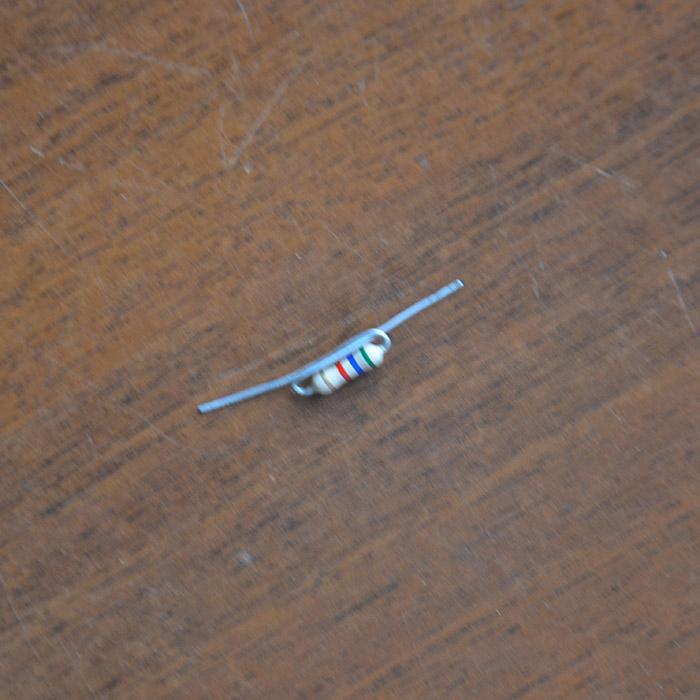resistor: (308, 341, 388, 396)
